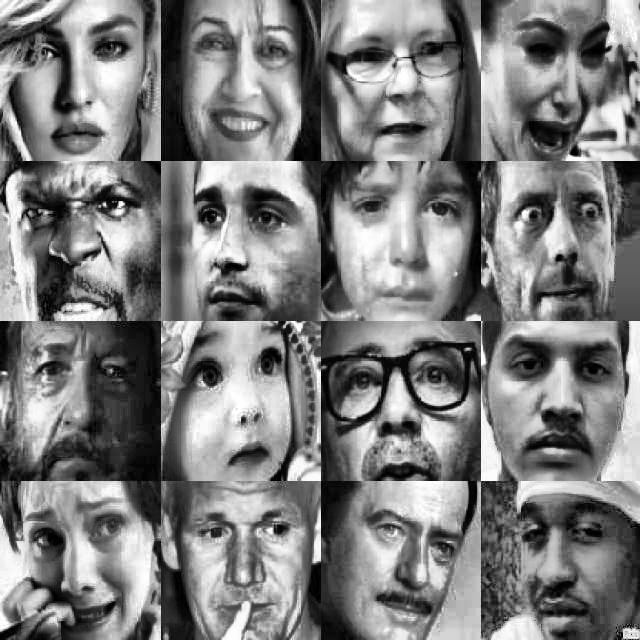angry: (1, 173, 158, 322)
fear: (17, 486, 140, 640), (172, 328, 300, 472), (494, 183, 622, 312)
happy: (178, 12, 307, 160), (341, 498, 467, 640), (510, 498, 628, 640)
neutral: (7, 7, 149, 161), (330, 8, 468, 164), (492, 330, 623, 474), (180, 492, 304, 640), (179, 176, 307, 310)
sad: (340, 172, 476, 314), (335, 338, 472, 474), (12, 336, 146, 473), (495, 10, 613, 159)
